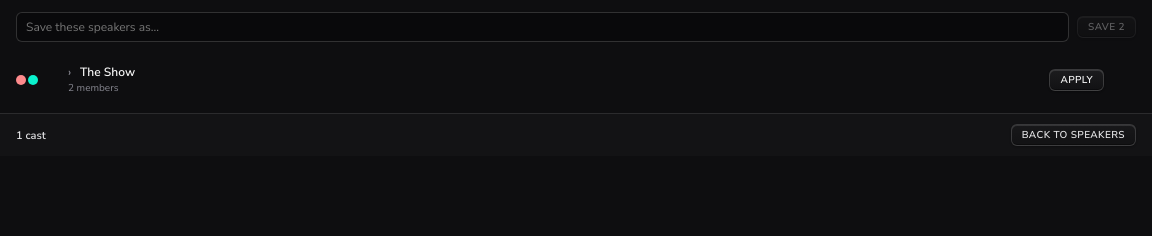
Test: faces from the footage › says so, quietly, when there is no frame to take
Click the button with aria-label "Members of The Show".
click(108, 72)  # box [68,64,1039,95]
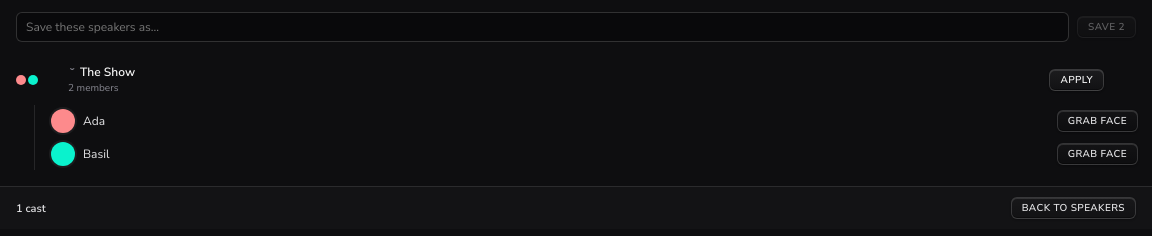
Click the button "Grab face" in the row of "Ada".
click(1097, 121)  # box [1057,110,1138,132]
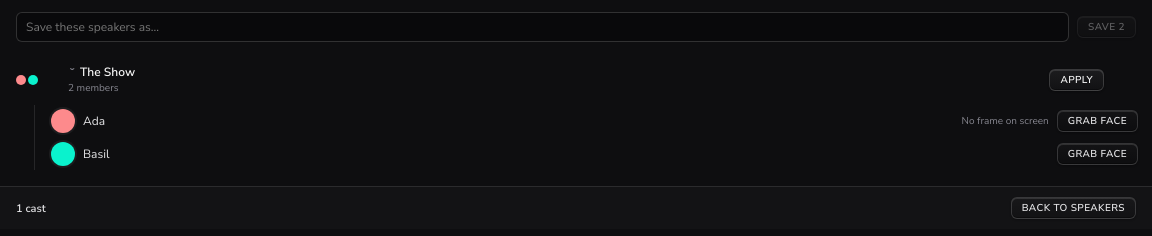
Expected: the text "No frame on screen" is shown, [962,114,1049,128]
